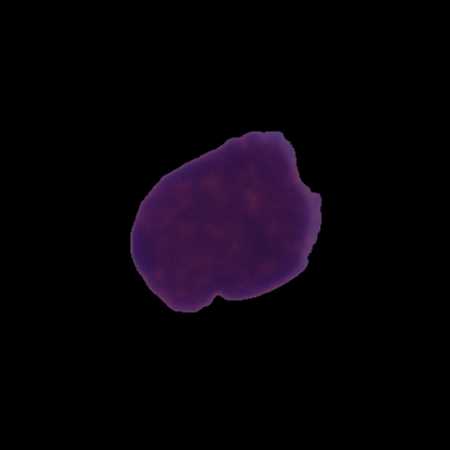ALL: (127, 125, 325, 315)
